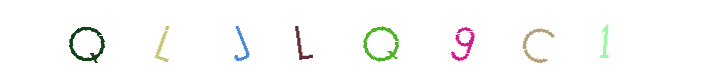1: (424, 0, 504, 80)
9: (343, 0, 423, 80)
C: (369, 0, 449, 80)
J: (225, 0, 305, 80)
L: (202, 0, 282, 80), (321, 0, 401, 80)
Q: (47, 0, 127, 80), (341, 0, 421, 80)
